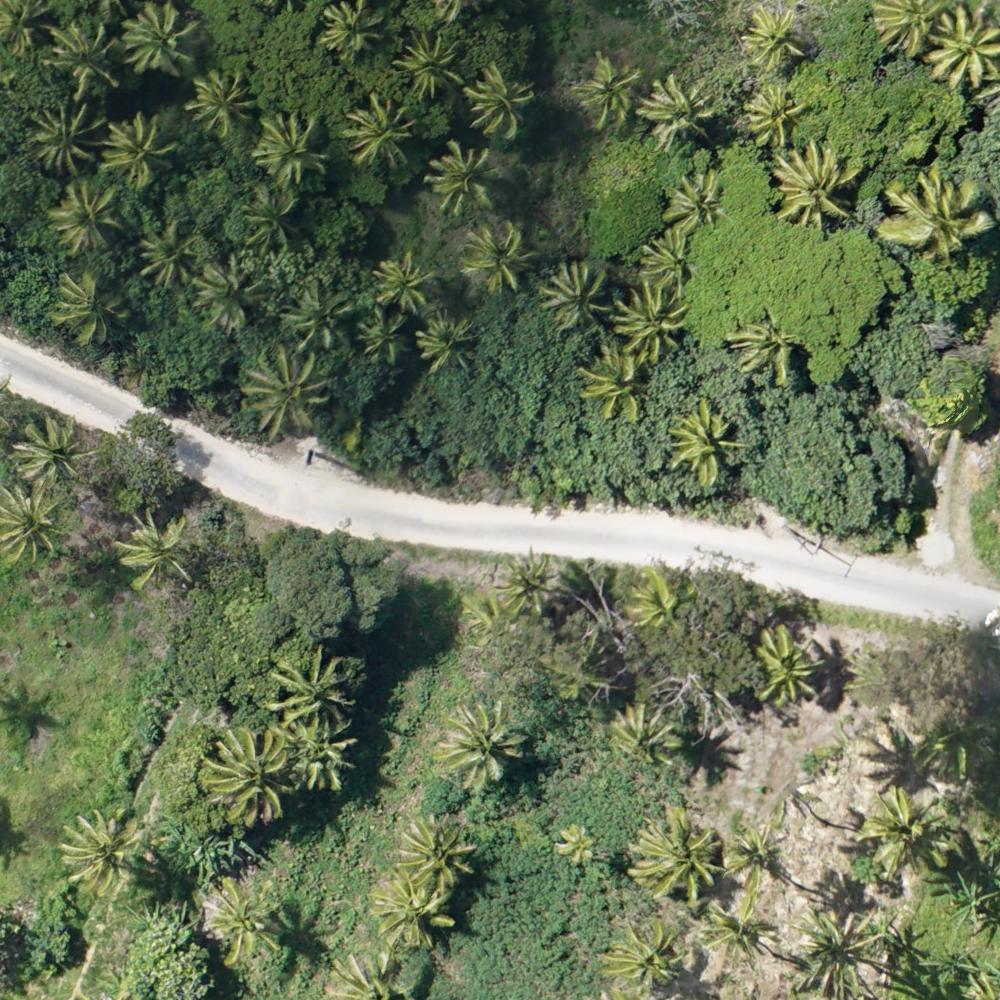Palm: (879, 160, 999, 252), (787, 905, 885, 998), (61, 807, 154, 898), (207, 728, 296, 823), (246, 347, 335, 441), (634, 809, 719, 900), (206, 877, 296, 959), (599, 918, 692, 995), (437, 700, 524, 782), (667, 399, 743, 492), (775, 141, 855, 228), (867, 790, 945, 879), (271, 652, 352, 733), (723, 312, 801, 390), (607, 286, 683, 365), (120, 515, 196, 591), (751, 622, 820, 704), (575, 345, 647, 423), (374, 875, 454, 945), (928, 9, 1000, 86), (51, 182, 122, 259), (395, 813, 475, 881), (281, 279, 354, 352), (251, 111, 326, 182), (124, 1, 196, 74), (47, 22, 118, 96), (53, 267, 124, 340), (17, 417, 88, 489), (639, 71, 708, 145), (701, 900, 773, 969), (428, 138, 495, 212), (193, 256, 258, 331), (463, 222, 534, 290), (571, 57, 642, 124), (31, 104, 104, 169), (343, 97, 413, 164), (468, 62, 528, 138), (187, 68, 254, 136), (395, 32, 464, 97), (3, 489, 65, 561), (106, 116, 169, 186), (740, 4, 805, 71), (497, 552, 566, 615), (726, 824, 790, 891), (135, 216, 196, 285), (612, 704, 674, 769), (745, 83, 805, 148), (547, 260, 607, 325), (637, 230, 697, 293), (319, 1, 385, 58), (665, 175, 731, 230), (242, 183, 301, 244), (372, 255, 429, 314), (630, 563, 685, 623), (420, 309, 475, 367), (362, 307, 412, 365), (554, 821, 599, 868)
